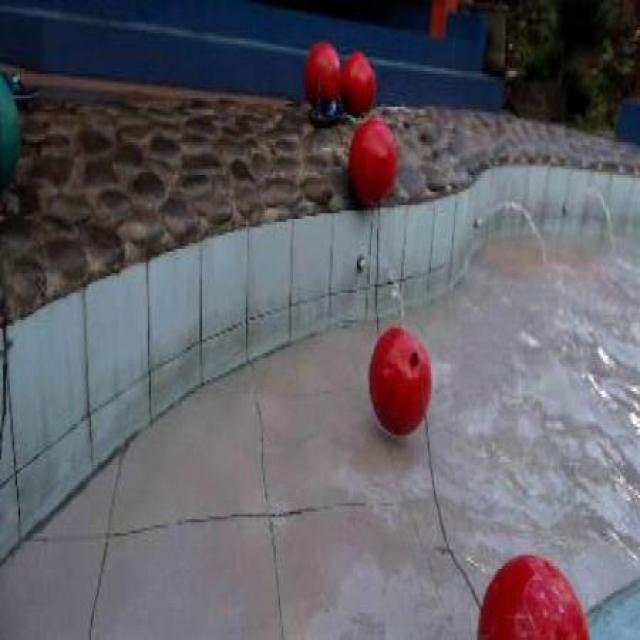buoy: (476, 551, 590, 637), (366, 326, 430, 435), (346, 115, 396, 202), (303, 40, 340, 102), (342, 51, 376, 113)
